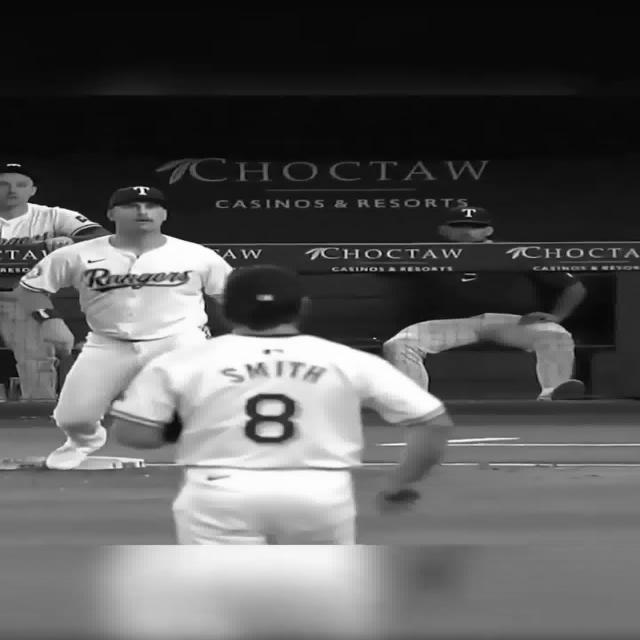shoe: (45, 424, 107, 470), (536, 378, 586, 401)
